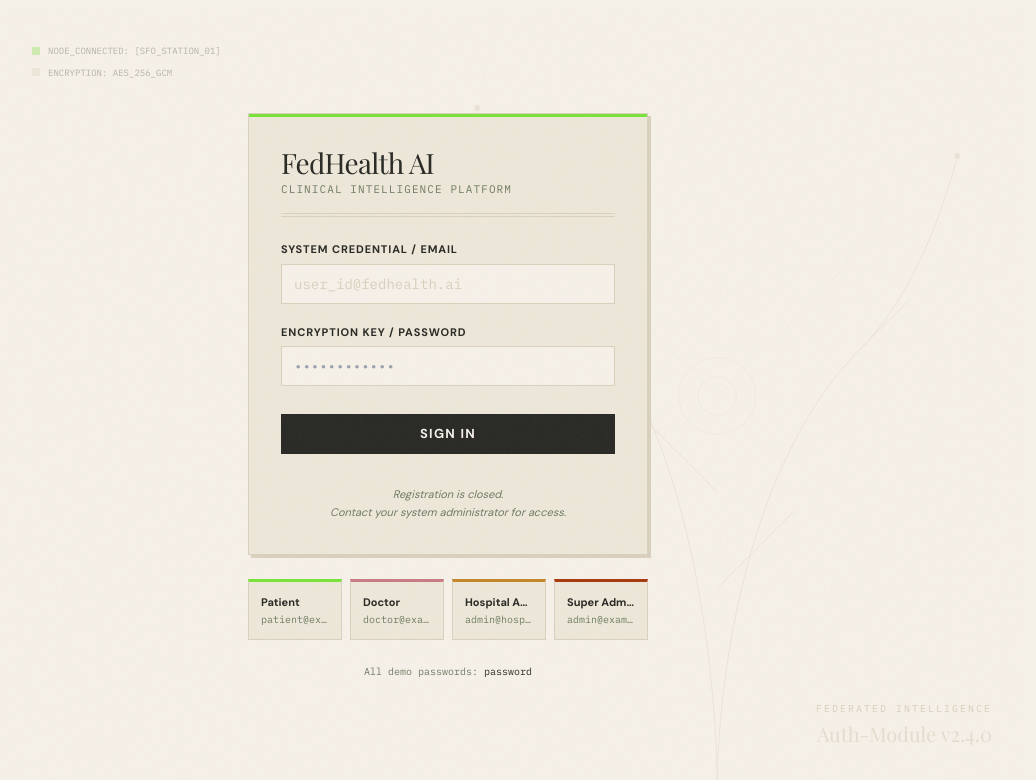
LoginPage › fills email when a demo account is clicked
Click the text "Patient" at (280, 602), box 261,595 -> 300,609
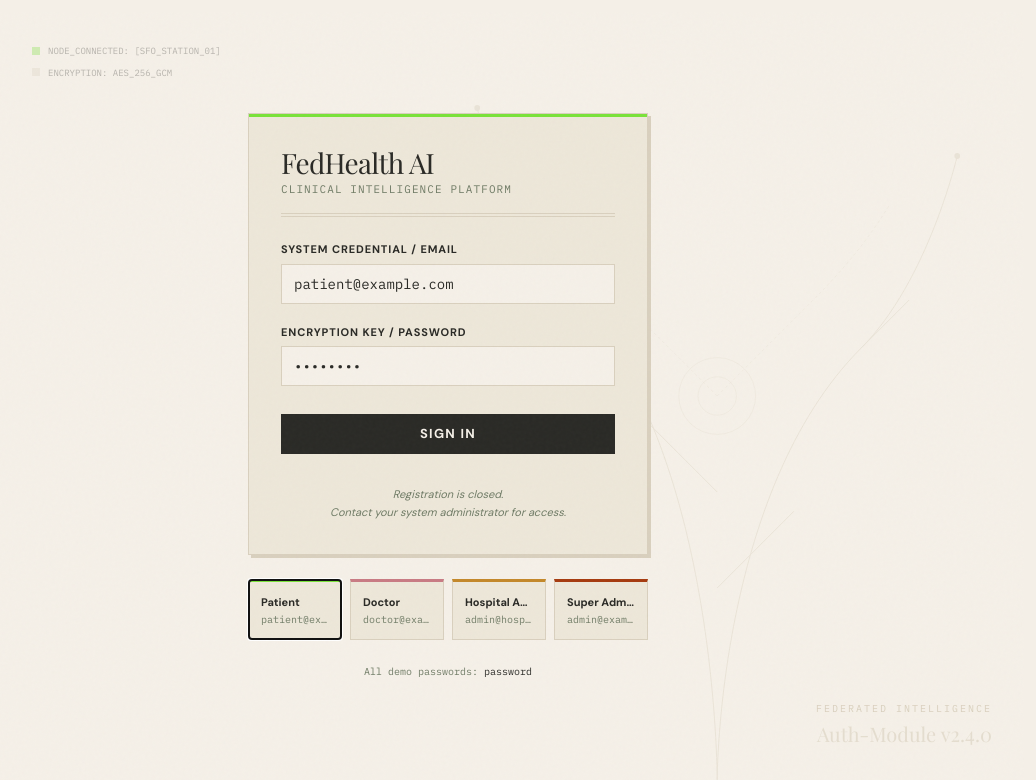
Check: the field with placeholder "user_id@fedhealth.ai" holds "patient@example.com", box 281,264 -> 615,304
